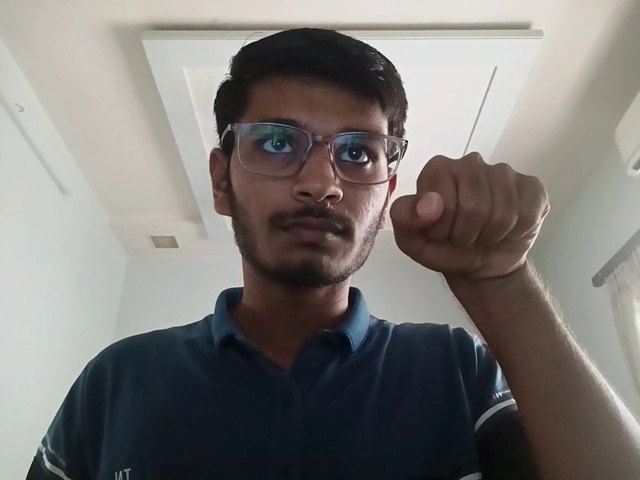Yes: (384, 144, 569, 287)
